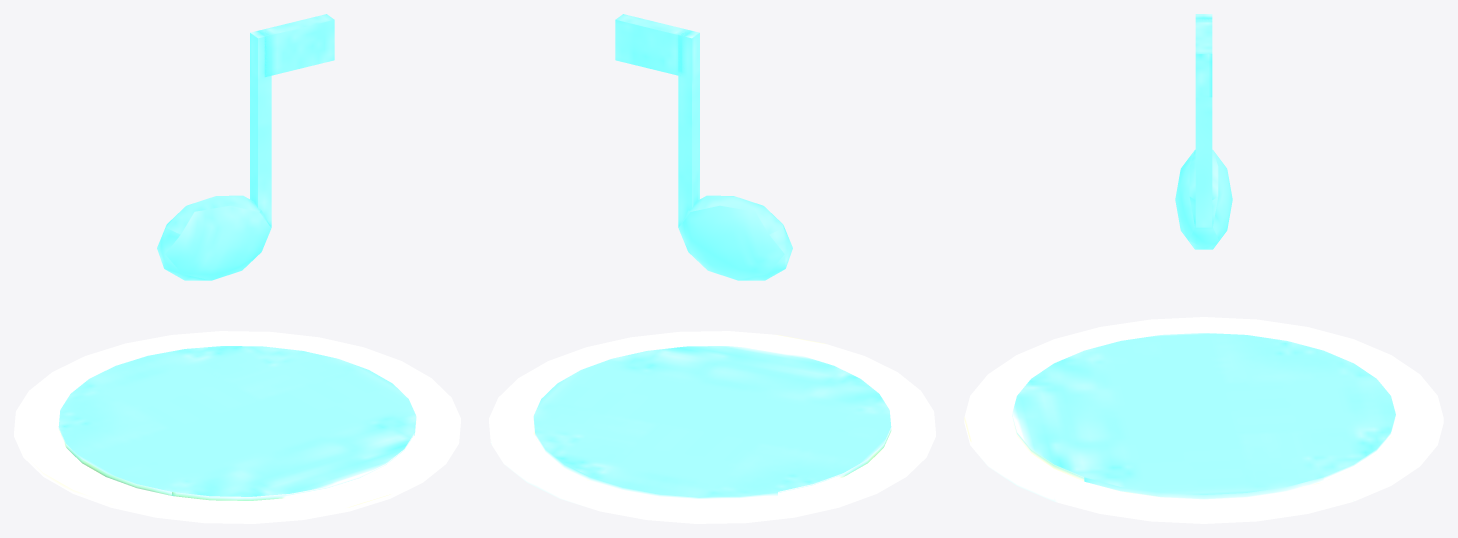
File: nota_mastil.glb
The picture shows the model from 3 angles, left to right: view 1: azimuth 30°, elevation 25°; view 2: azimuth 150°, elevation 25°; view 3: azimuth 270°, elevation 25°; orthographic projection. The views are drawn at different scales.
Visible parts, largest first — view 1: nota_mastil; view 2: nota_mastil; view 3: nota_mastil.
Boxes of the visible parts, left/top/right/bottom form: nota_mastil: left=14, top=14, right=460, bottom=523; nota_mastil: left=489, top=14, right=935, bottom=523; nota_mastil: left=964, top=14, right=1443, bottom=523.
Bounding box in the file's own units: 2 × 1.92 × 2.
Materials: 1 (1 with a texture image).
